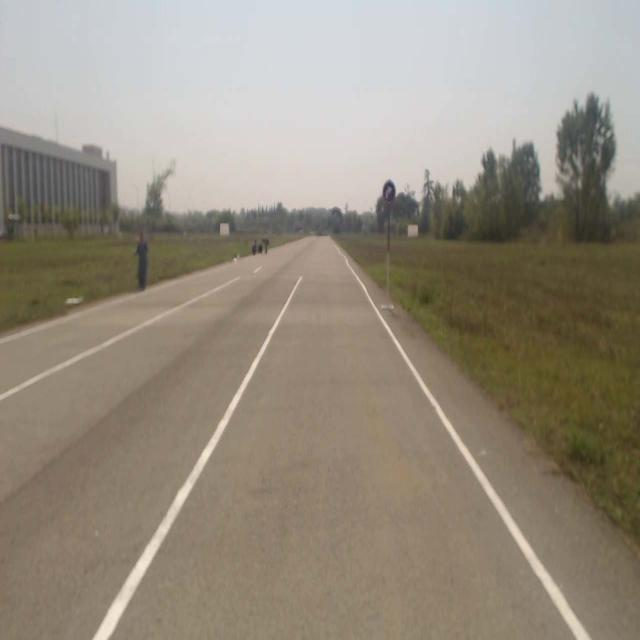sag: (384, 180, 396, 201)
